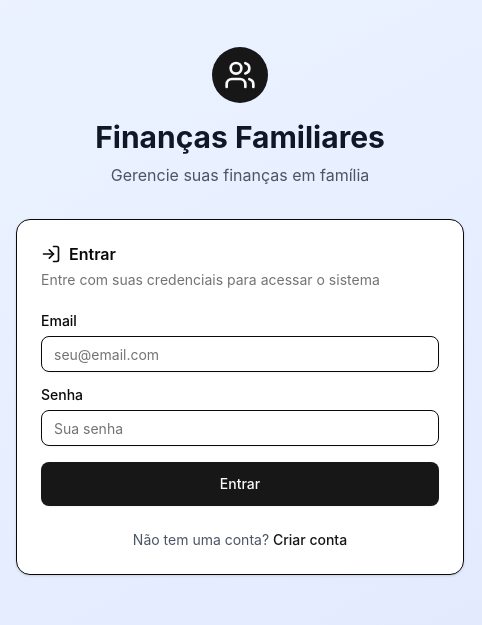
Login Component › mostra erro ao tentar login sem preencher campos
Note: Preencher campos para contornar validação de required
In the field labelled "Email": (240, 354) x1=41 y1=336 x2=439 y2=372, type "user@test.com"
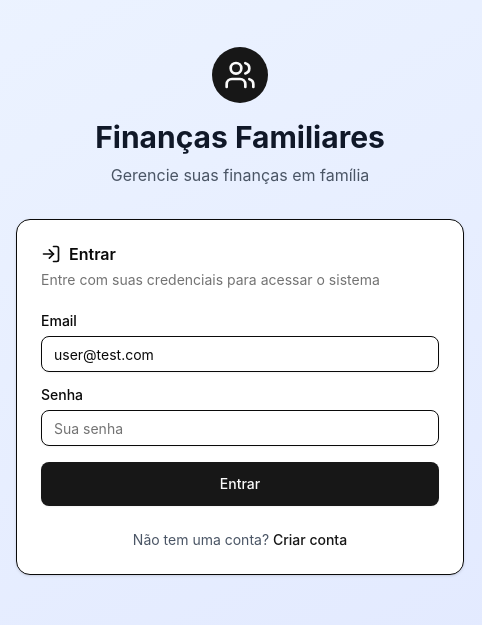
In the password field labelled "Senha": (240, 428) x1=41 y1=410 x2=439 y2=446, type "password123"
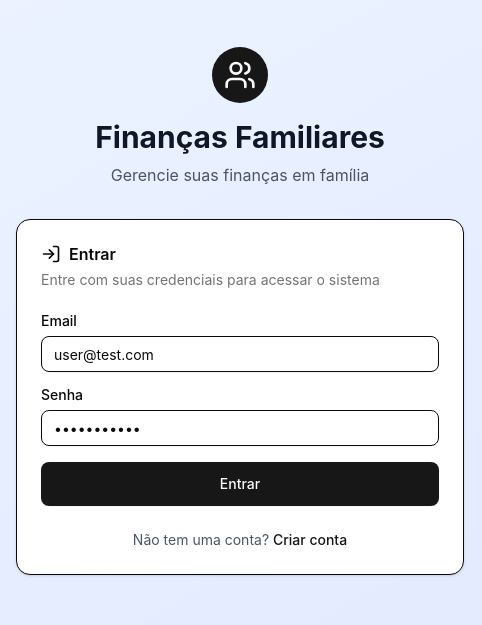
Click the button "Entrar": (240, 484) x1=41 y1=462 x2=439 y2=506
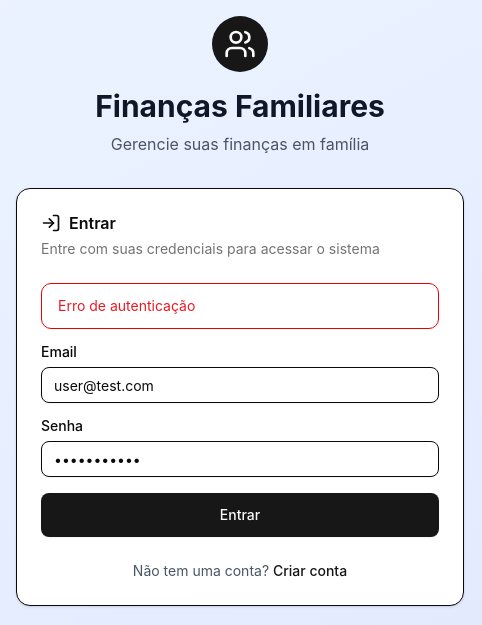
Check: the text "Erro de autenticação" is shown, box x1=58 y1=297 x2=195 y2=314
